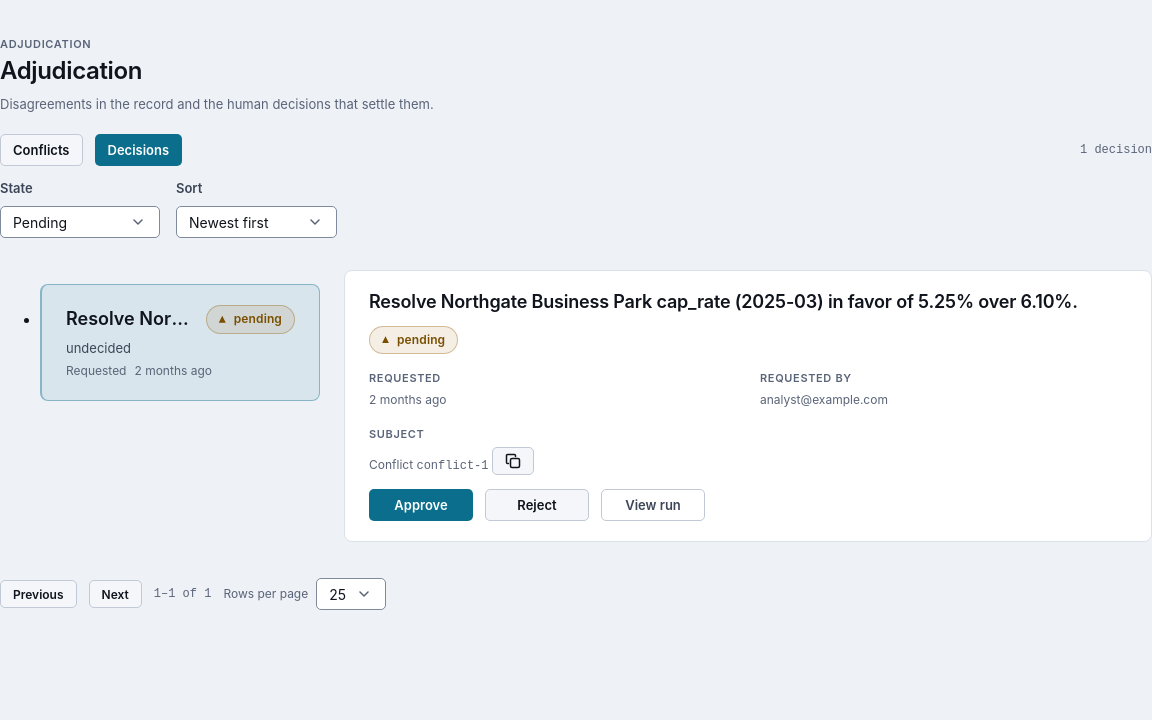
it: AdjudicationPage › deciding a pending approval removes its row and decrements the count
The image size is (1152, 720).
Click the button "Approve".
click(421, 505)  # box 369,489 -> 473,521
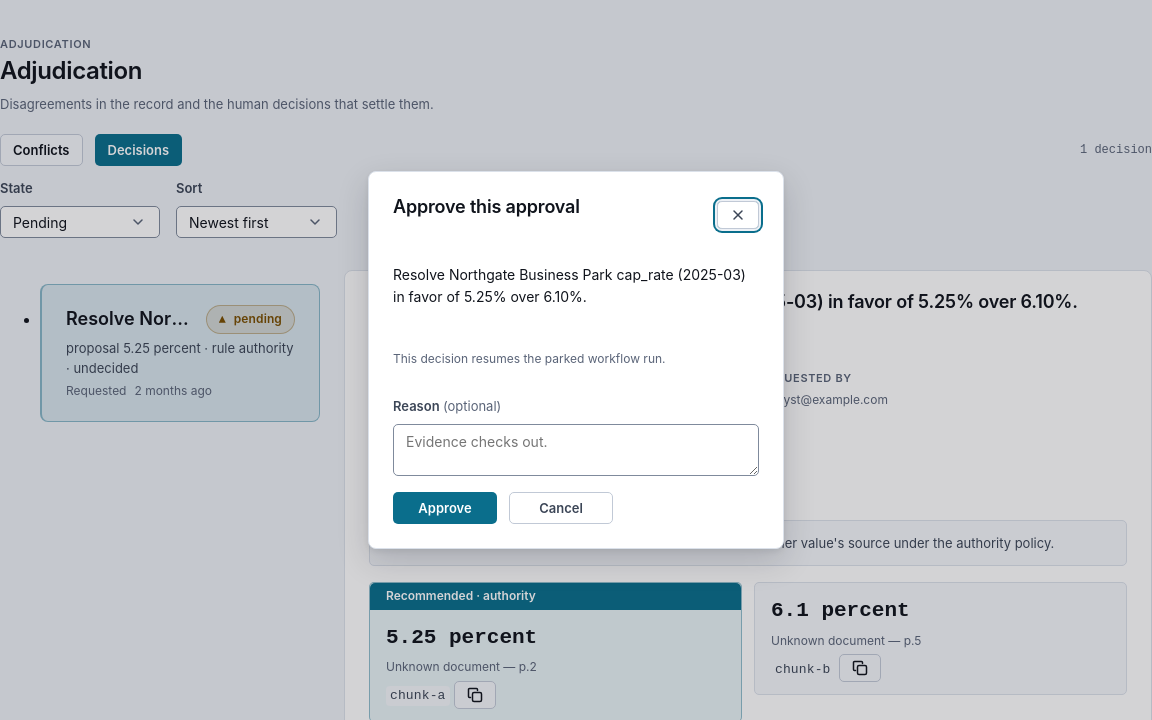
Click the button "Approve".
click(445, 508)  # box 393,492 -> 497,524
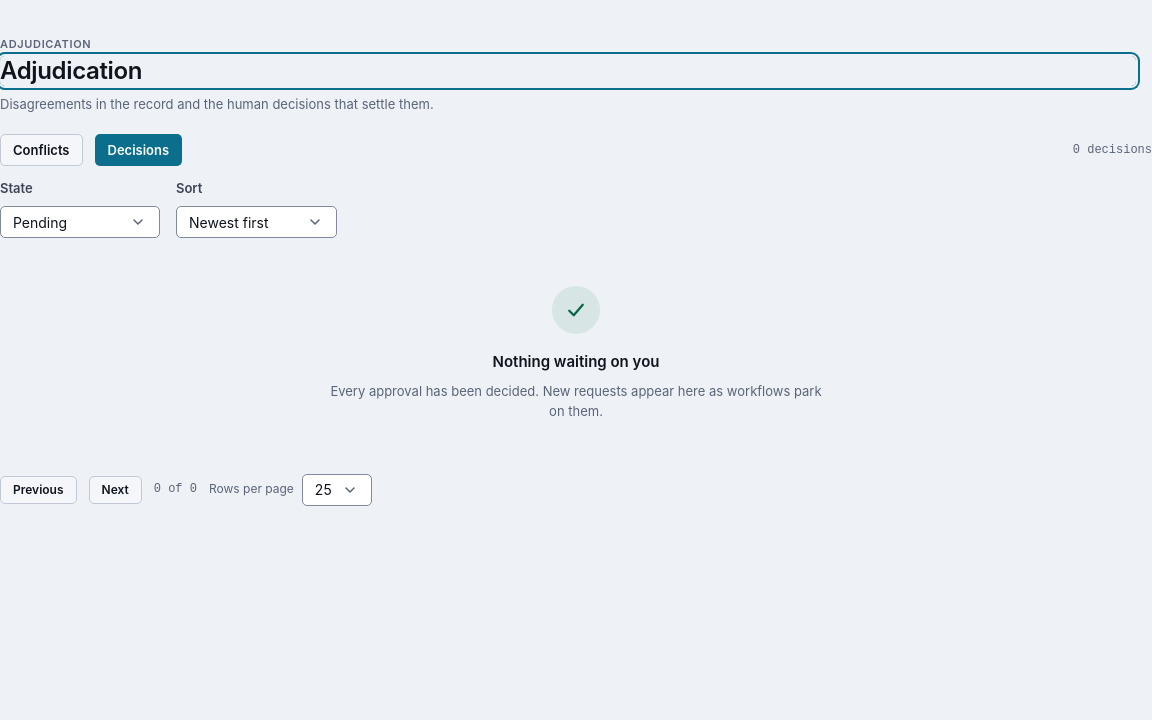
Now the dialog is gone
Now the text "Nothing waiting on you" is shown, box 492,350 -> 659,373
